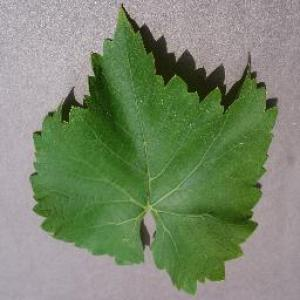Folha: (28, 1, 278, 297)
